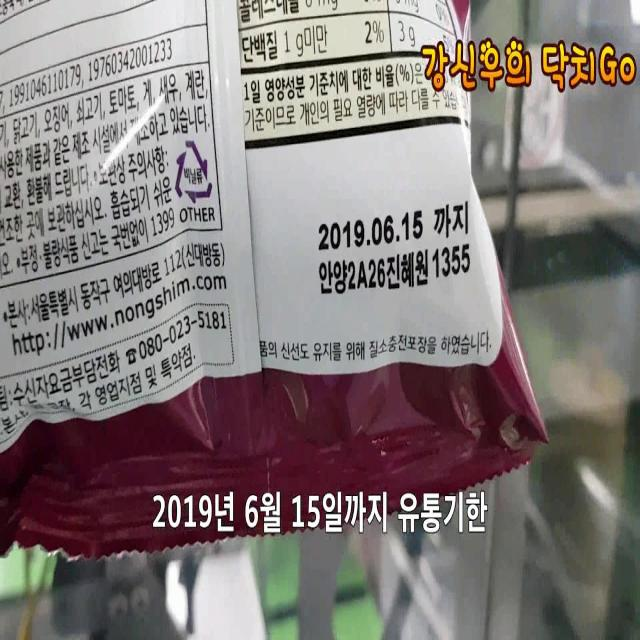Vinyl: (173, 137, 214, 207)
